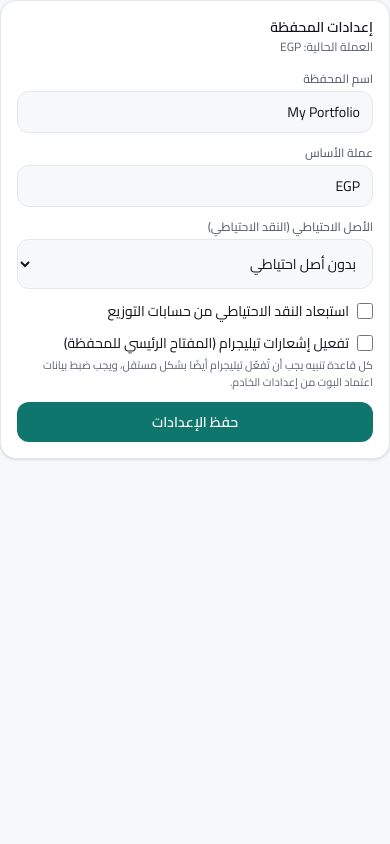
Test: PortfolioSettings › requires an explicit confirmation step before saving a base_currency change
The width and height of the screenshot is (390, 844).
Later steps or results of the test are not shown.
Replace the text in the field showing "EGP" with "USD": (195, 186) [17, 165, 373, 207]
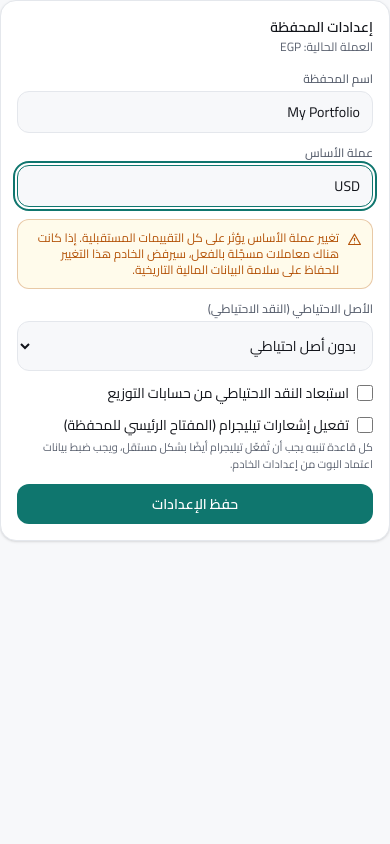
Click the button "حفظ الإعدادات": (195, 504) [17, 484, 373, 524]
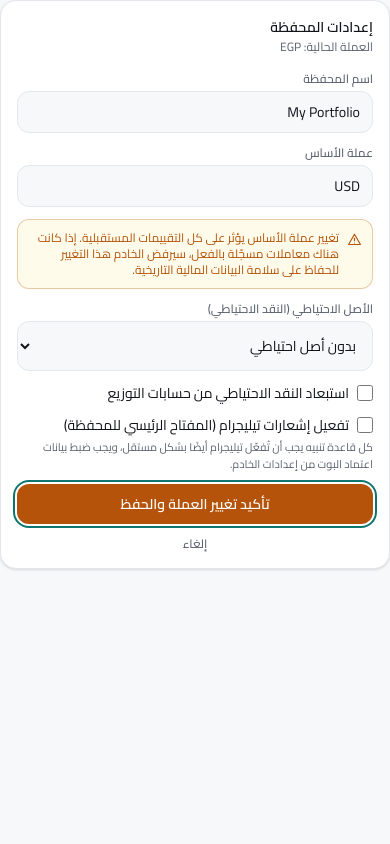
Check: the text "تغيير عملة الأساس يؤثر" is shown, box [38, 226, 339, 281]
